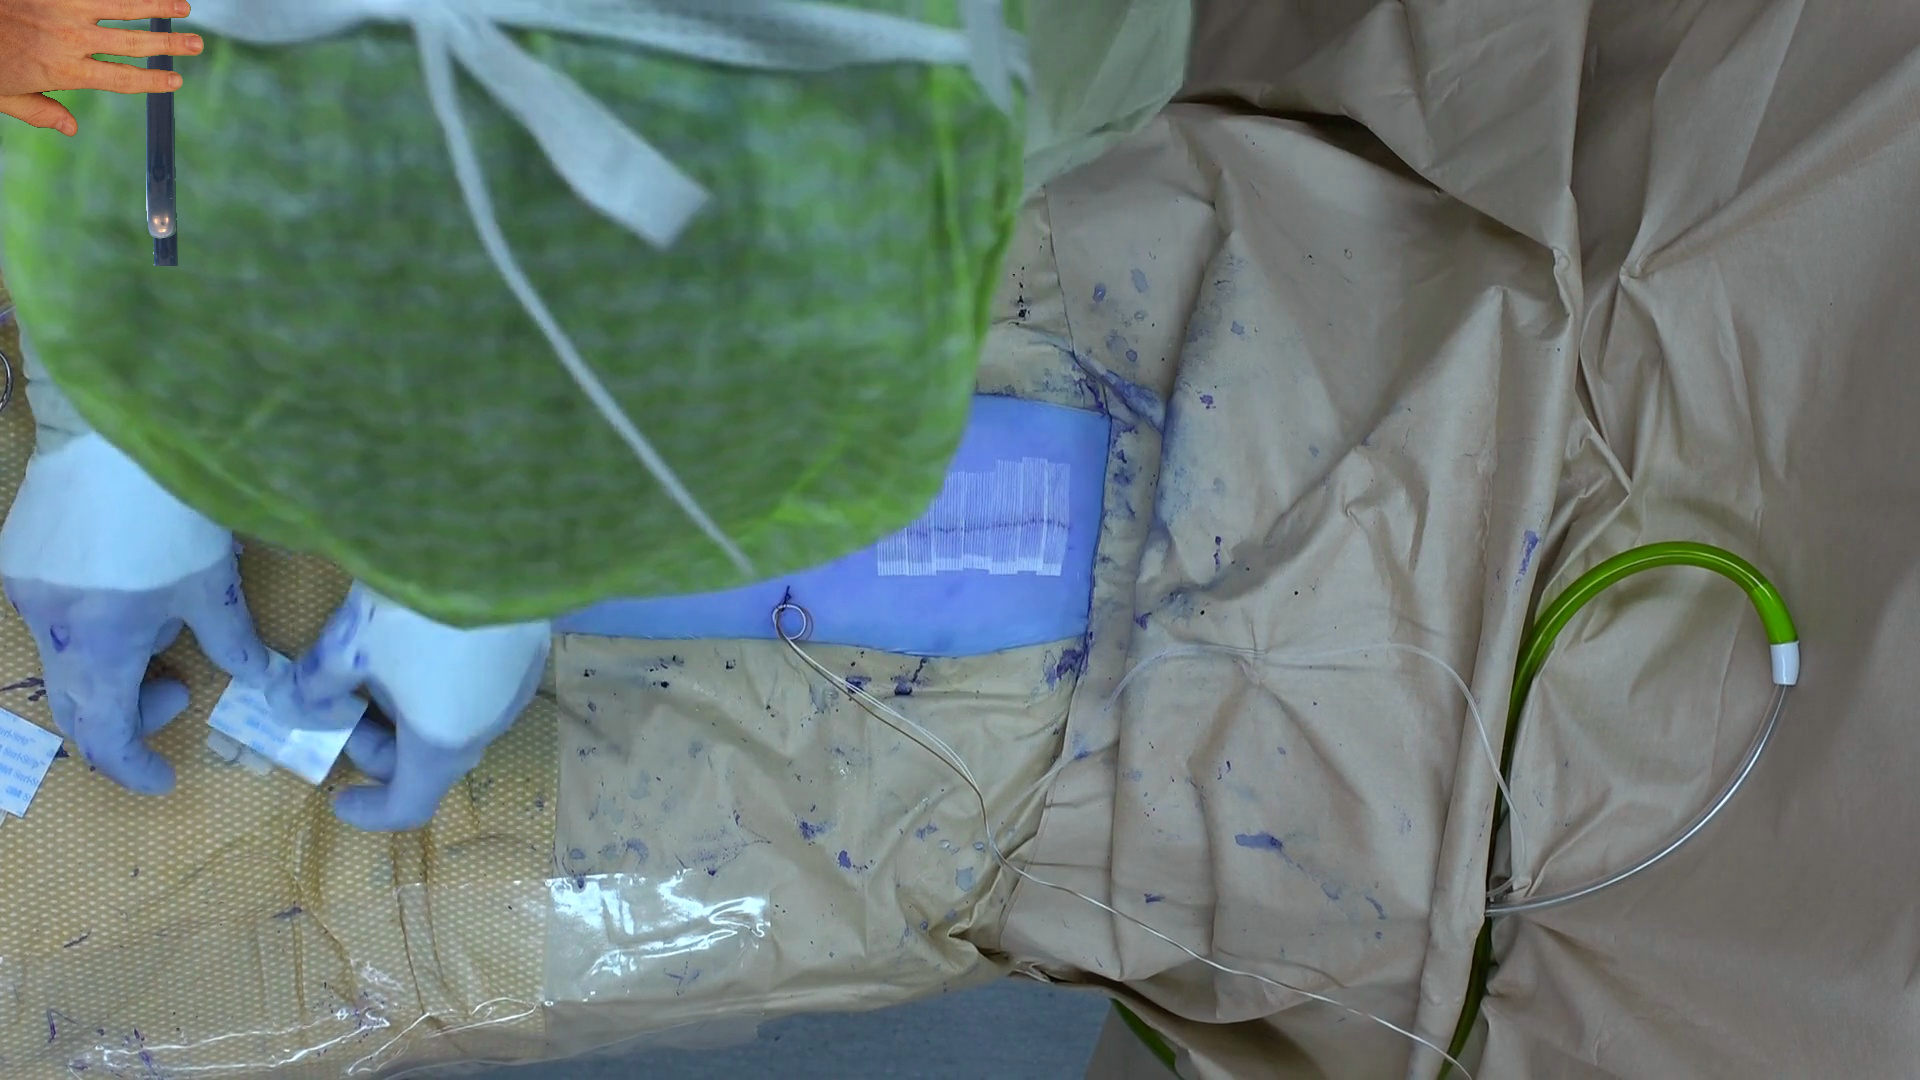scissors: (146, 18, 177, 265)
